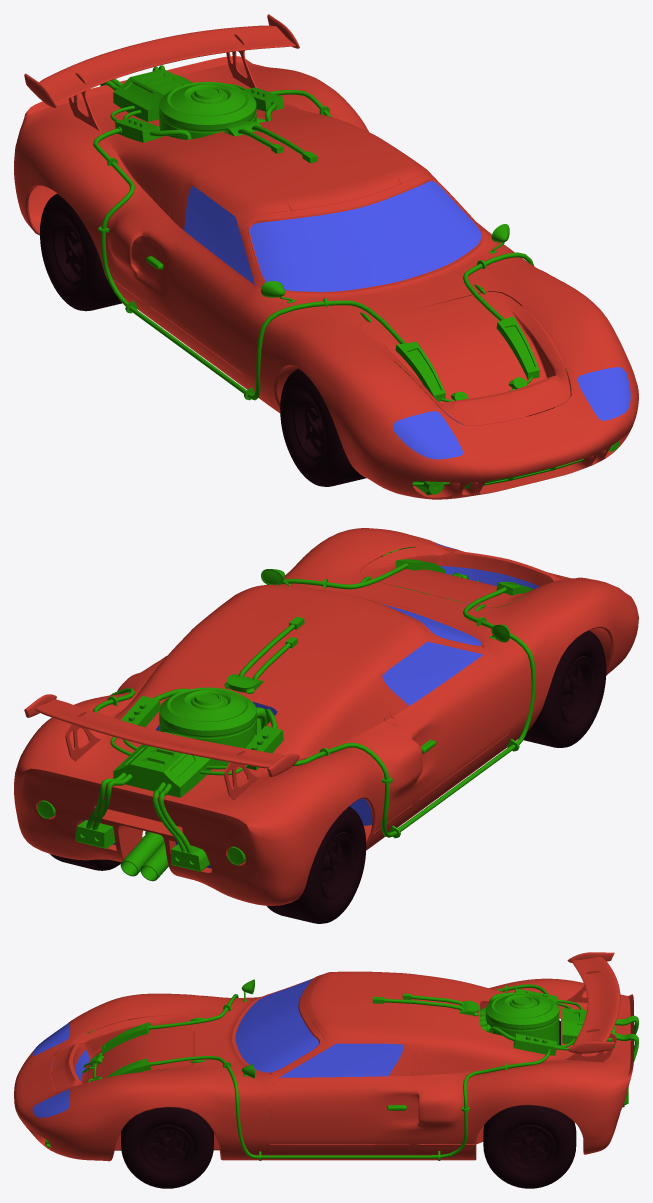
Rendered from MDL_M_Car5.fbx.
The picture shows the model from 3 angles, top to bottom: view 1: azimuth 30°, elevation 25°; view 2: azimuth 150°, elevation 25°; view 3: azimuth 270°, elevation 25°; orthographic projection. The views are drawn at different scales.
Parts seen in each view (by area): view 1: A, B, C, WheelBR, WheelFR; view 2: A, C, WheelFR, B, WheelBR; view 3: A, C, B, WheeBL, WheelFL.
Part boxes in pixels (box(x1,y1,x2,y2)): A: box(14, 14, 638, 499); B: box(184, 181, 630, 482); C: box(93, 65, 619, 495); WheelBR: box(40, 193, 122, 311); WheelFR: box(280, 368, 365, 486); A: box(14, 528, 638, 905); C: box(37, 546, 535, 881); WheelFR: box(523, 630, 606, 747); B: box(82, 543, 623, 868); WheelBR: box(267, 806, 366, 923); A: box(14, 952, 633, 1161); C: box(45, 979, 638, 1160); B: box(32, 978, 403, 1117); WheeBL: box(483, 1105, 576, 1188); WheelFL: box(121, 1107, 213, 1188).
Size of the model in its own units: 185 by 115 by 447.
